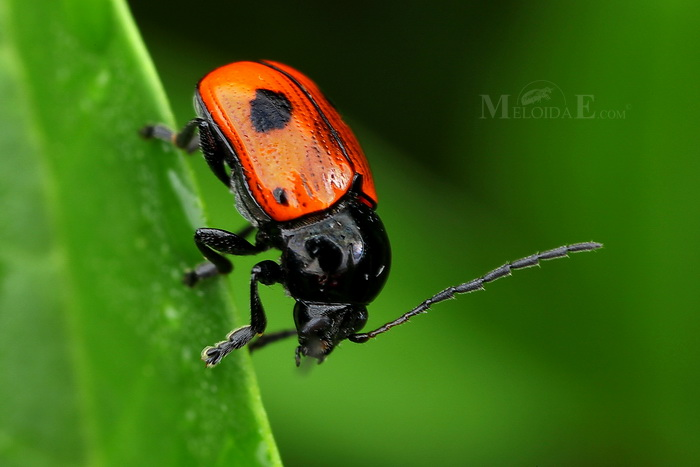Cryptocephalus_bipunctatus: (129, 48, 607, 376)
